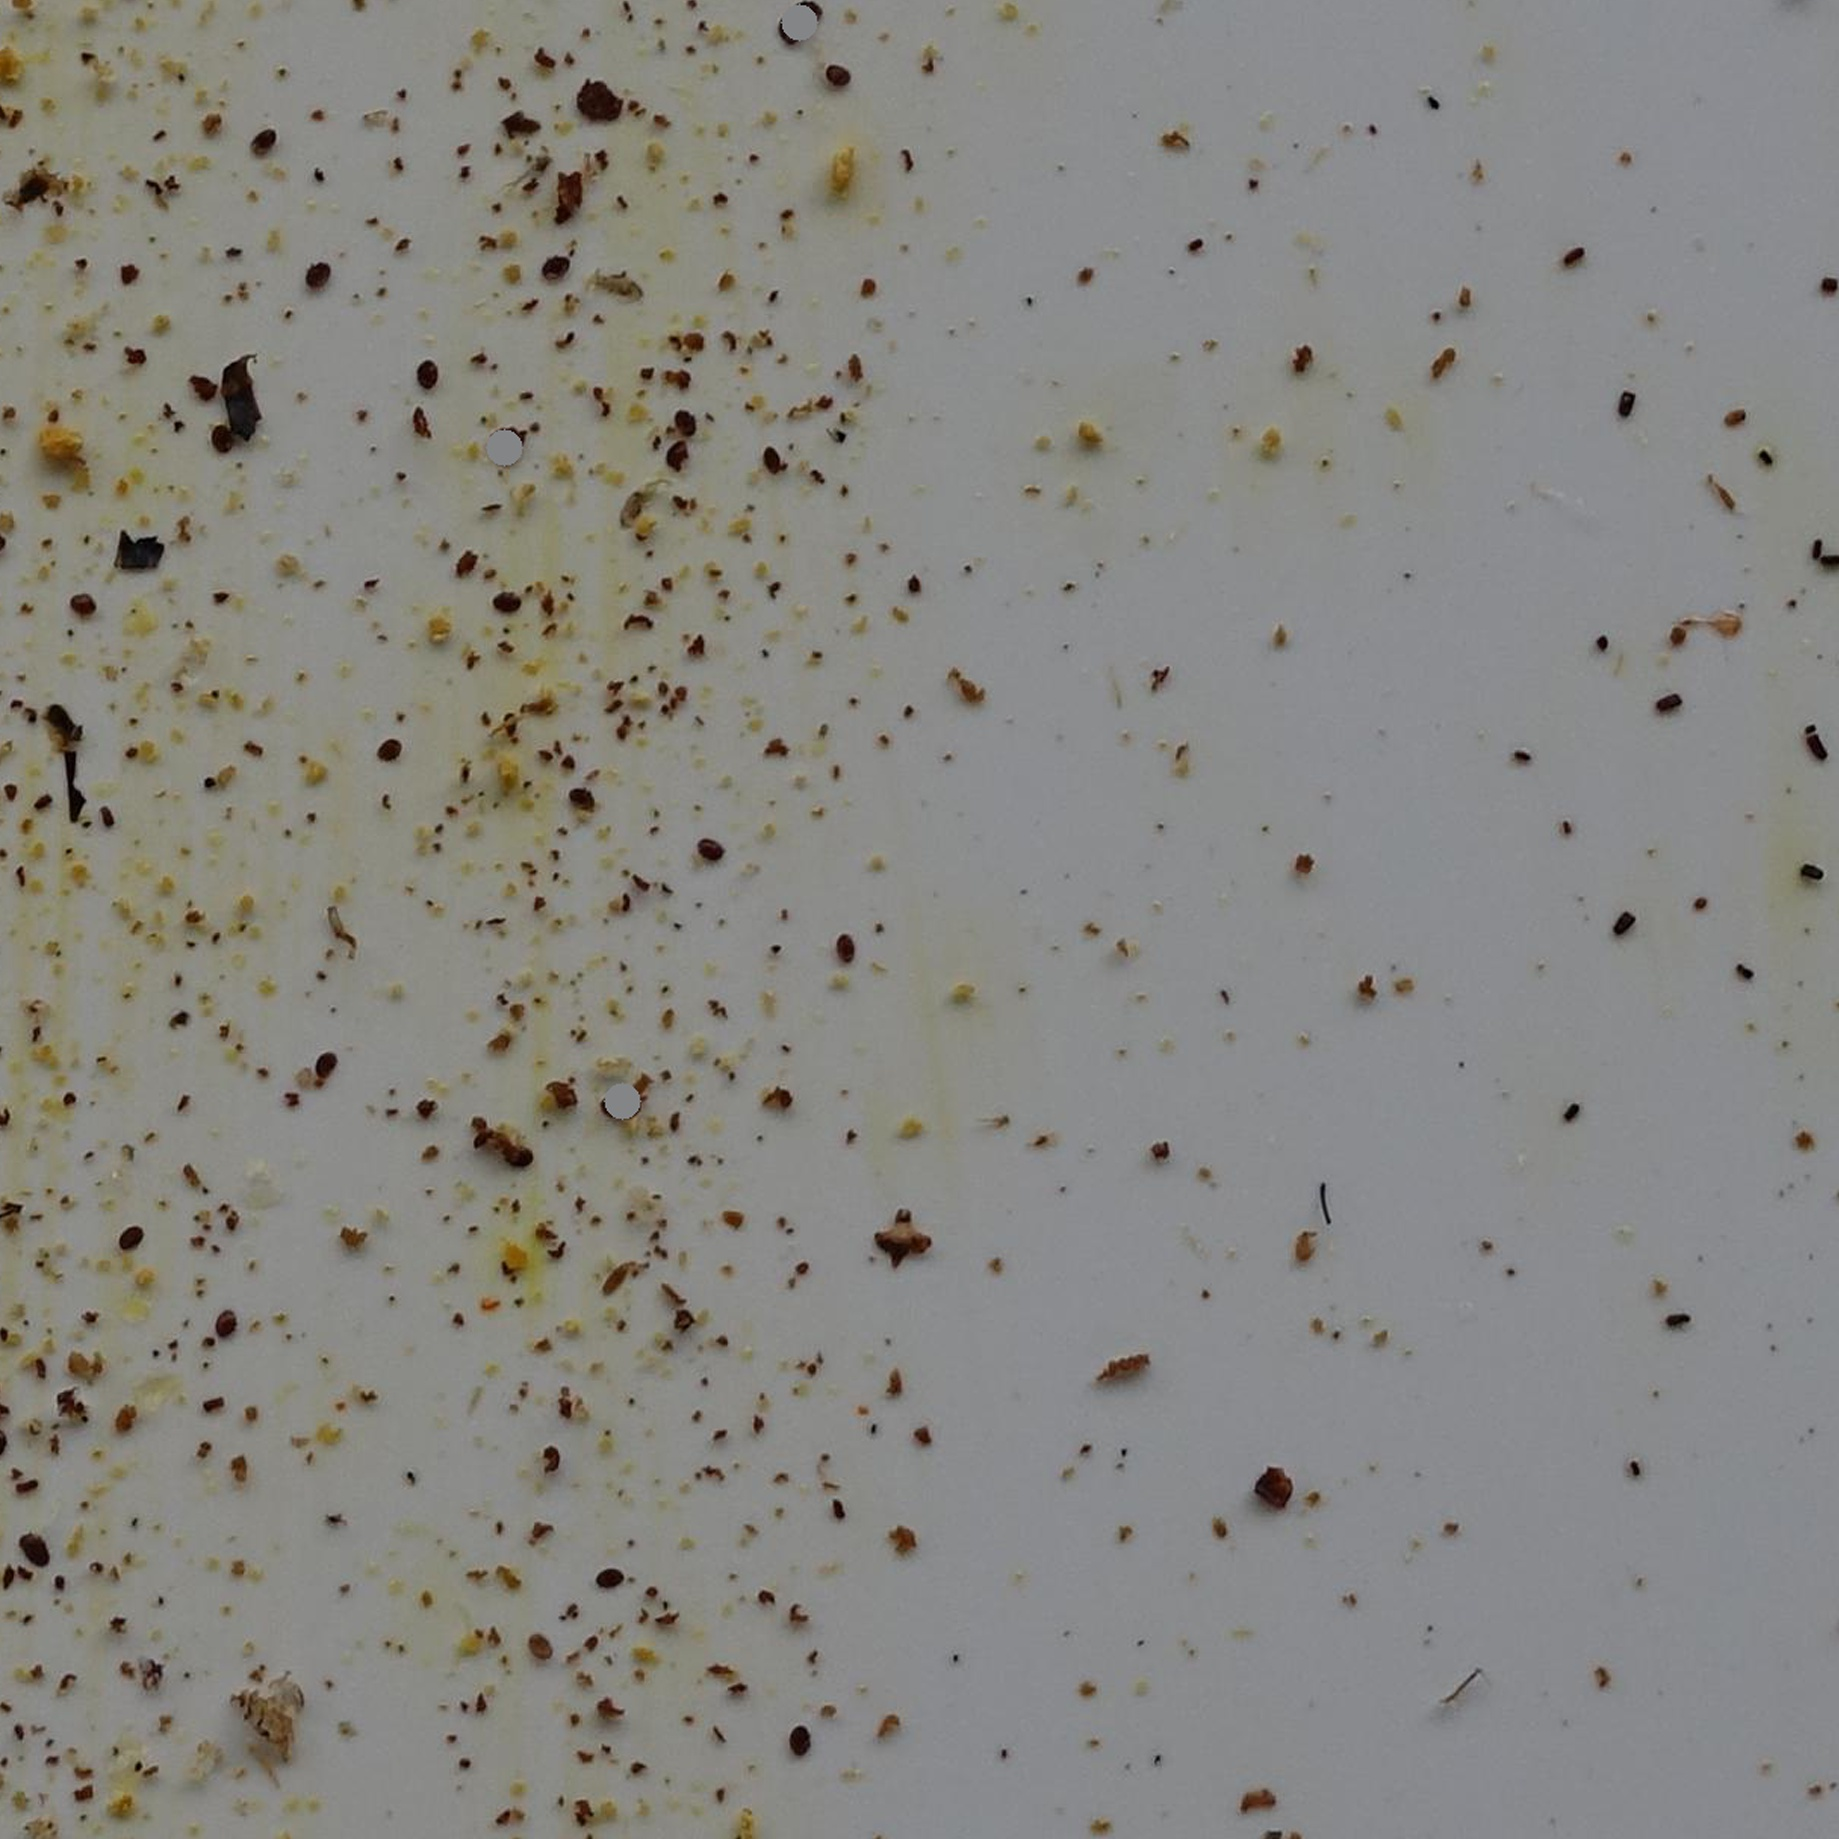Varroa: (766, 8, 812, 52), (532, 1632, 561, 1659), (71, 589, 99, 616), (664, 434, 690, 463), (504, 1138, 530, 1165), (109, 1229, 136, 1255), (212, 421, 237, 446), (760, 446, 783, 473), (377, 736, 402, 760), (500, 591, 525, 615), (568, 783, 593, 807), (596, 1564, 620, 1588), (674, 411, 697, 434), (788, 1728, 810, 1753), (834, 935, 856, 960), (546, 254, 568, 280), (416, 362, 440, 384), (306, 264, 328, 288), (25, 1538, 47, 1561), (216, 1312, 237, 1334), (317, 1059, 338, 1081), (253, 130, 275, 152), (701, 847, 716, 862), (825, 76, 839, 84)
